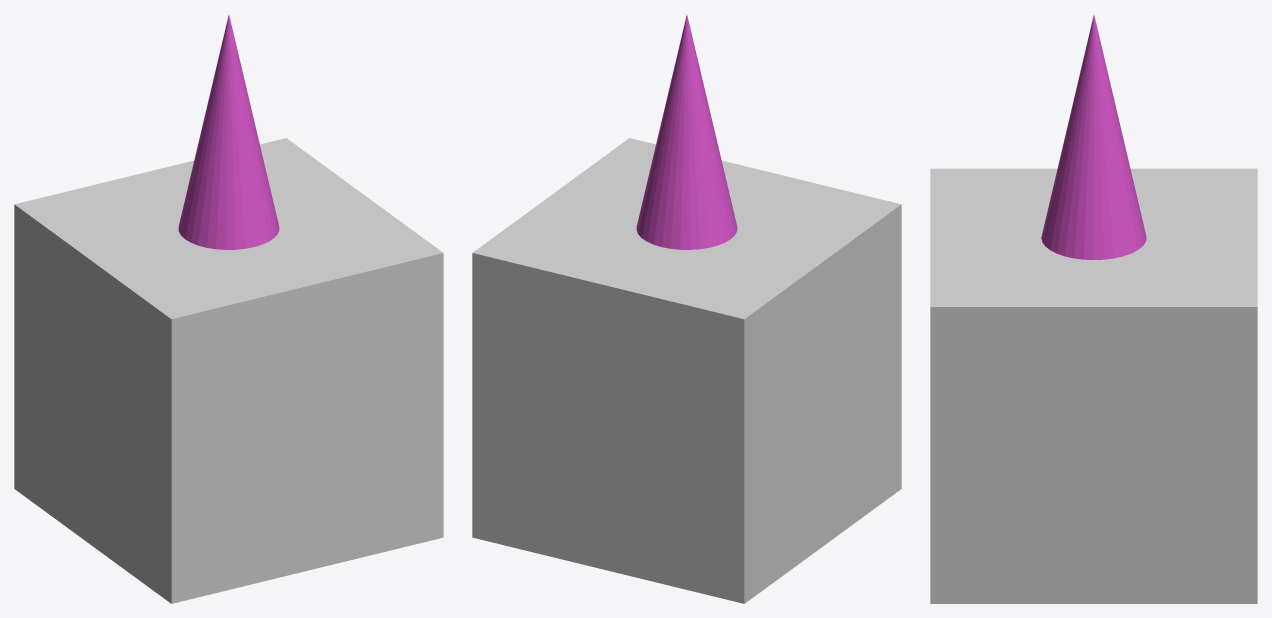
File: magujo.fbx
The picture shows the model from 3 angles, left to right: view 1: azimuth 30°, elevation 25°; view 2: azimuth 150°, elevation 25°; view 3: azimuth 270°, elevation 25°; orthographic projection. The views are drawn at different scales.
Parts seen in each view (by area): view 1: Cube, Cone; view 2: Cube, Cone; view 3: Cube, Cone.
Part boxes in pixels (x1=…): Cube: x1=14, y1=138, x2=443, y2=603; Cone: x1=178, y1=15, x2=279, y2=249; Cube: x1=472, y1=138, x2=901, y2=603; Cone: x1=636, y1=15, x2=737, y2=249; Cube: x1=930, y1=168, x2=1257, y2=603; Cone: x1=1041, y1=15, x2=1146, y2=259.
Size of the model in its own units: 2800 by 4911 by 2800.
